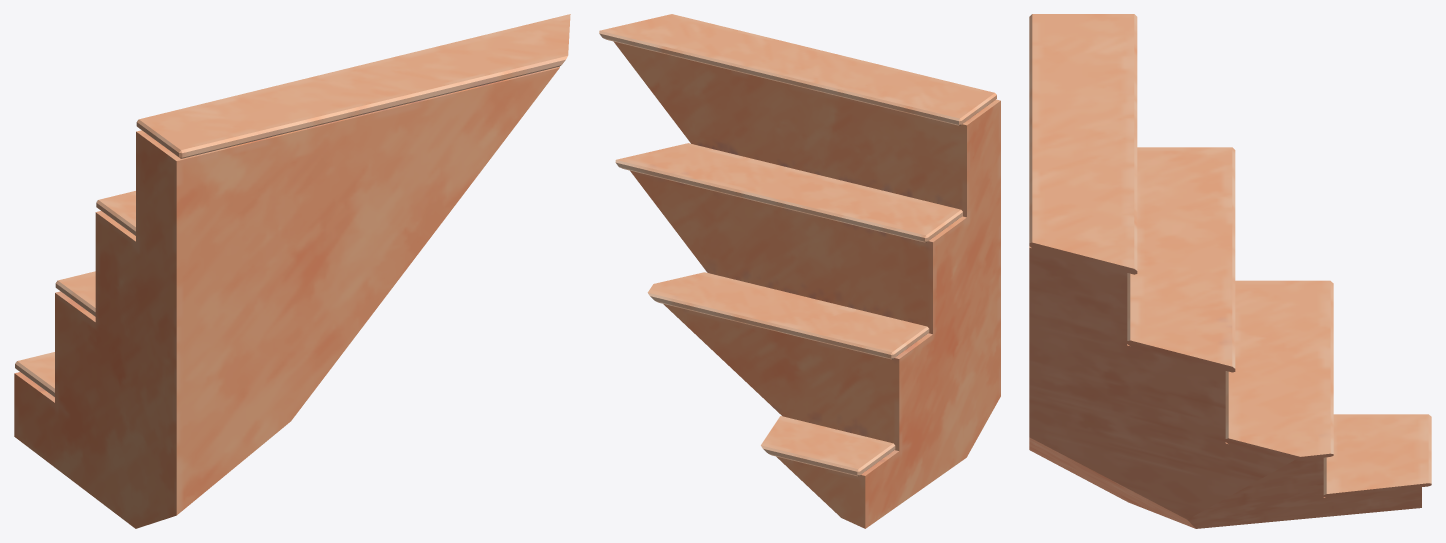
File: stairs_s02.fbx
3 views of the same model, side by side, from view 1: azimuth 30°, elevation 25°; view 2: azimuth 150°, elevation 25°; view 3: azimuth 270°, elevation 25° (orthographic). The views are drawn at different scales.
Visible parts, largest first — view 1: stairs_s02; view 2: stairs_s02; view 3: stairs_s02.
Part boxes in pixels (left/top/right/bottom): stairs_s02: left=14, top=14, right=570, bottom=528; stairs_s02: left=599, top=14, right=1000, bottom=528; stairs_s02: left=1029, top=14, right=1431, bottom=528.
Size of the model in its own units: 6.23 by 5.53 by 4.1.
